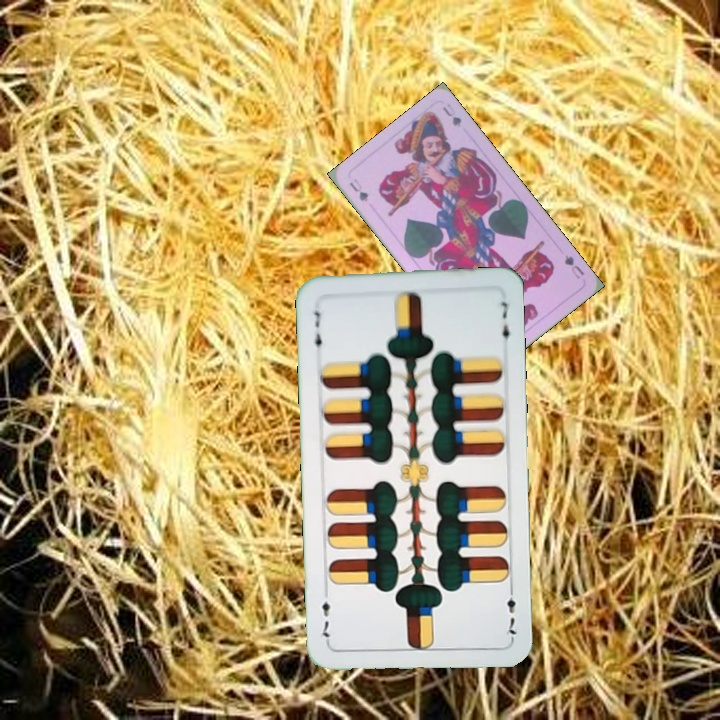E7: (501, 582, 519, 641), (310, 305, 325, 356)
GU: (560, 251, 587, 282), (345, 174, 371, 205)
